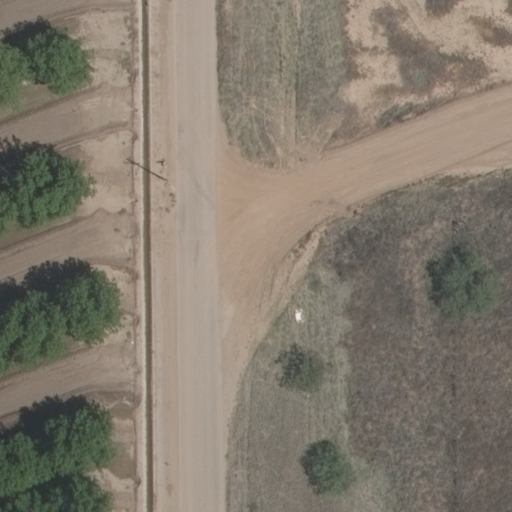DT: (154, 171, 177, 193)
